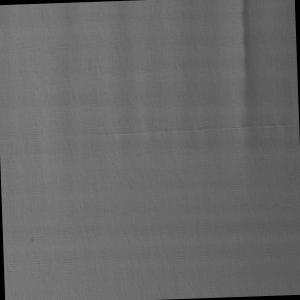Wrinkle: (1, 1, 300, 184), (3, 199, 300, 300)
